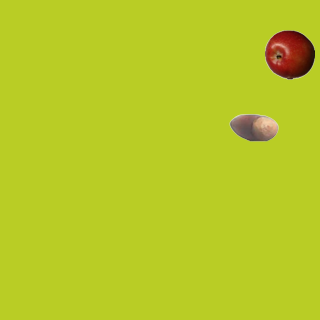Apple Braeburn: (264, 29, 314, 79)
Hazelnut: (228, 102, 278, 152)
